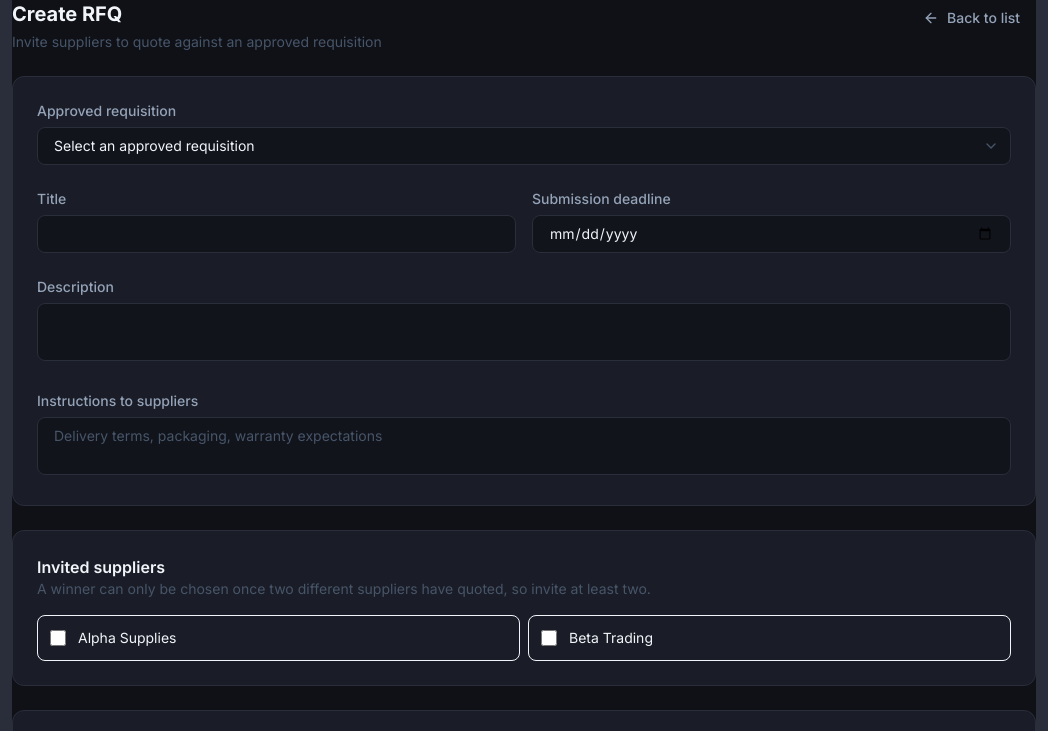
Scenario: RFQFormPage › adopts the requisition line items so they are not retyped
Select "PR-001 — Laptop refresh" in the dropdown labelled "Approved requisition" at {"x": 524, "y": 146}, box [37,127,1011,165]
(page scrolled)
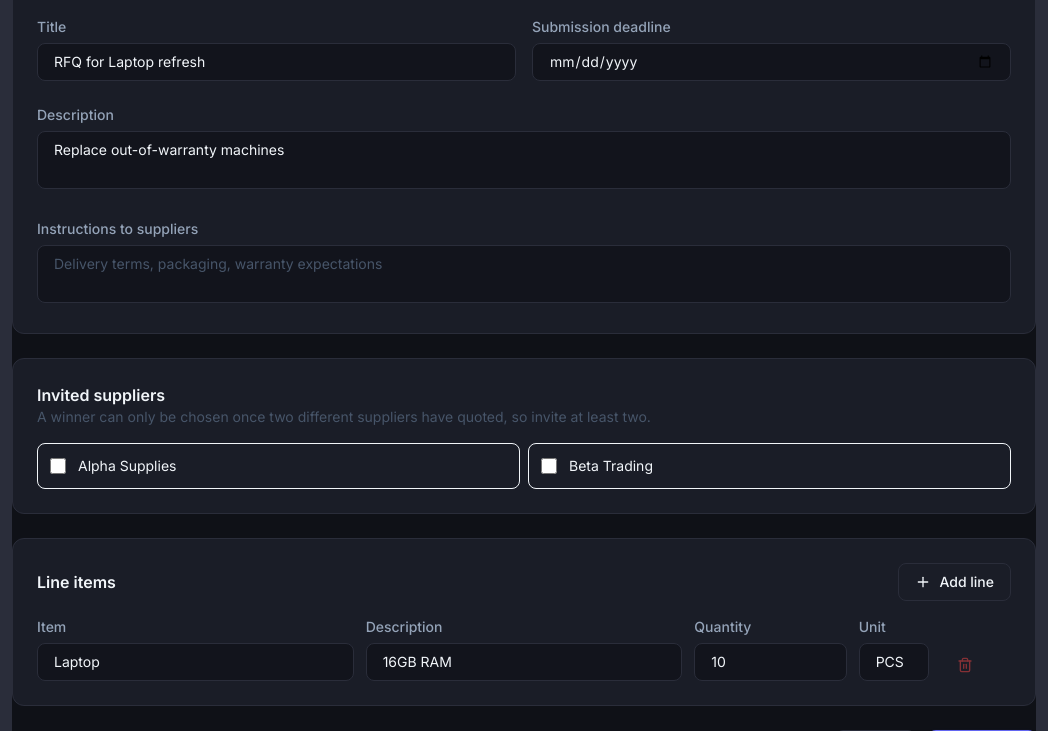
expect the field showing "Laptop" is shown: met, box [37,643,354,681]
expect the field showing "16GB RAM" is shown: met, box [366,643,682,681]
expect the number field showing "10" is shown: met, box [694,643,847,681]
